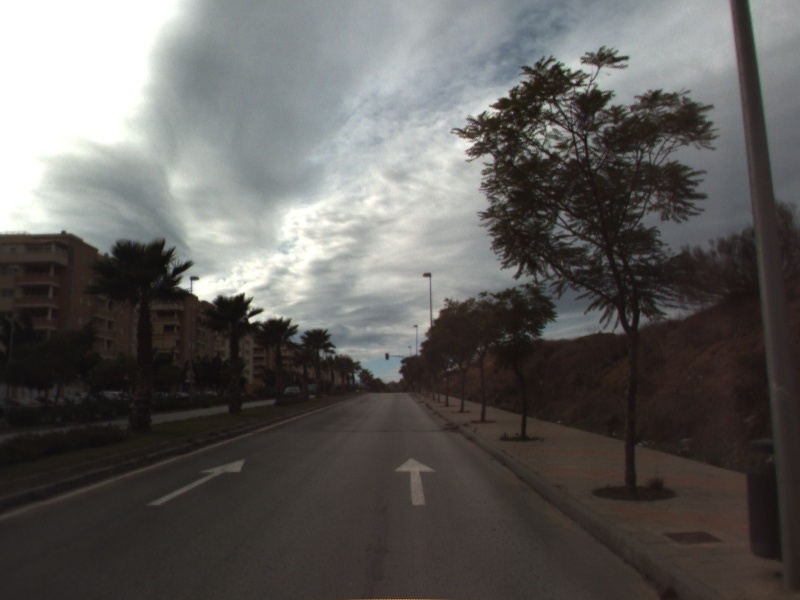STRAIGHT: (143, 456, 248, 508), (392, 455, 438, 507)
